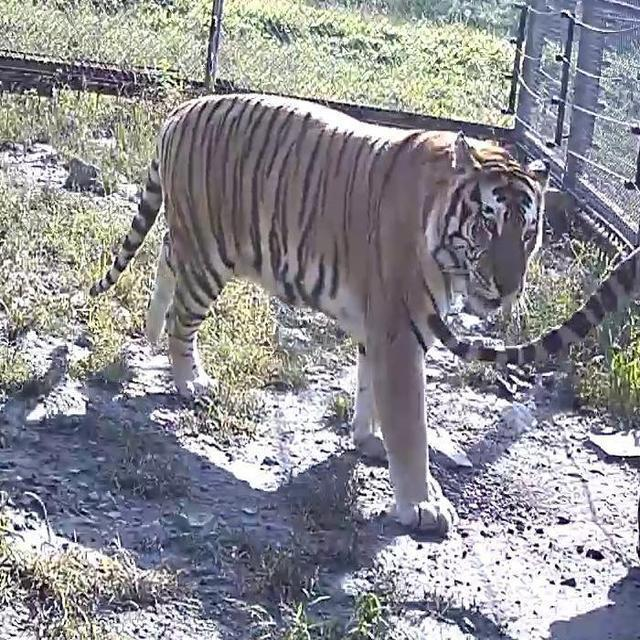tiger: (79, 68, 556, 544), (424, 244, 640, 377)
